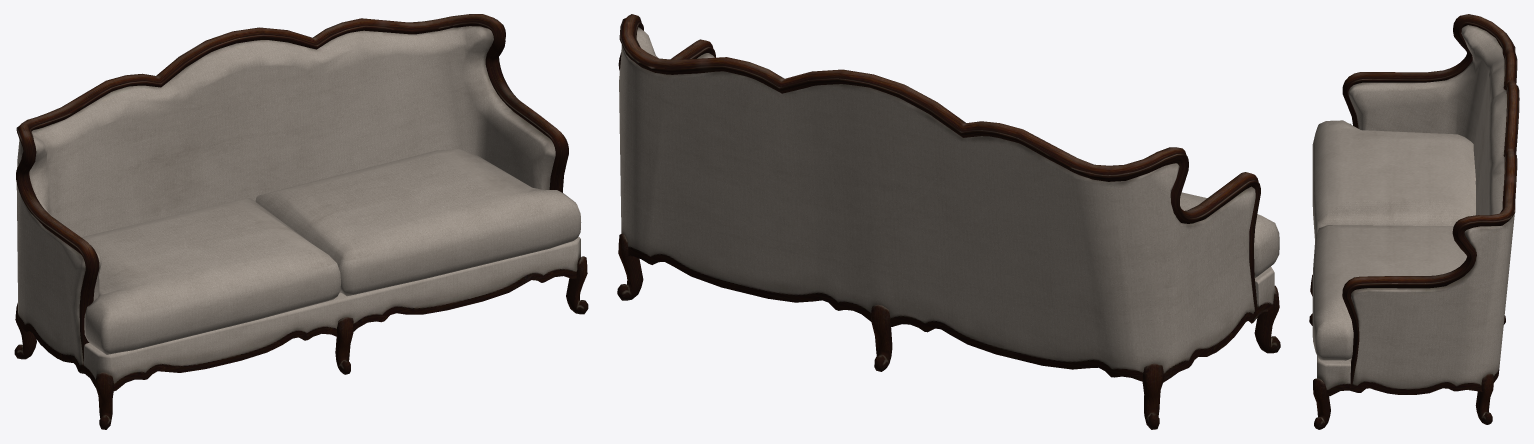
Rendered from Sofa_01.gltf.
3 renders of one model, left to right at view 1: azimuth 30°, elevation 25°; view 2: azimuth 150°, elevation 25°; view 3: azimuth 270°, elevation 25°, orthographic. The views are drawn at different scales.
Parts seen in each view (by area): view 1: Sofa_01; view 2: Sofa_01; view 3: Sofa_01.
Boxes of the visible parts, bbox=[...] form: Sofa_01: bbox=[14, 14, 588, 429]; Sofa_01: bbox=[617, 14, 1280, 429]; Sofa_01: bbox=[1309, 14, 1519, 429].
Size of the model in its own units: 1.57 by 0.7965 by 0.658.
1 material, 1 textured.
